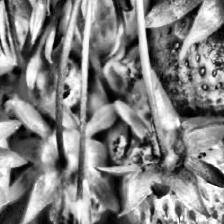Gray Mold: (171, 3, 224, 108)
